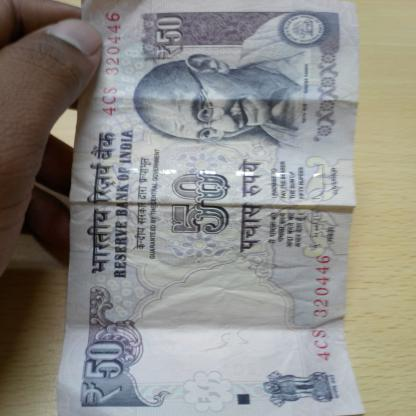Old50Front: (57, 0, 367, 416)
